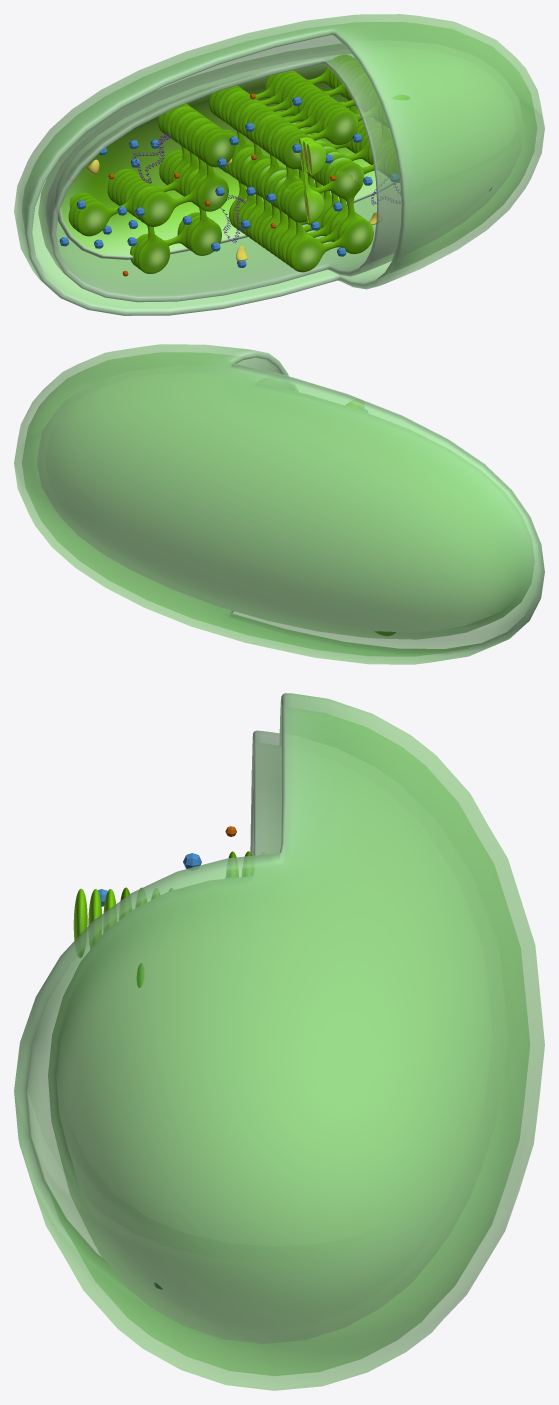
File: NaturesSolarPanel.glb
3 views of the same model, one above another, from view 1: azimuth 30°, elevation 25°; view 2: azimuth 150°, elevation 25°; view 3: azimuth 270°, elevation 25° (orthographic). The views are drawn at different scales.
Parts seen in each view (by area): view 1: Box142, Box142_1_0.001, Box142_1_0.002; view 2: Box142; view 3: Box142, Box142_1_0.001.
Part boxes in pixels (x1=…): Box142: x1=14, y1=14, x2=544, y2=315; Box142_1_0.001: x1=76, y1=54, x2=409, y2=273; Box142_1_0.002: x1=141, y1=66, x2=390, y2=226; Box142: x1=14, y1=344, x2=544, y2=664; Box142: x1=14, y1=693, x2=544, y2=1390; Box142_1_0.001: x1=73, y1=887, x2=173, y2=987.
Bounding box in the file's own units: 1.81 × 0.8754 × 0.8665.
Materials: 1 (1 with a texture image).
